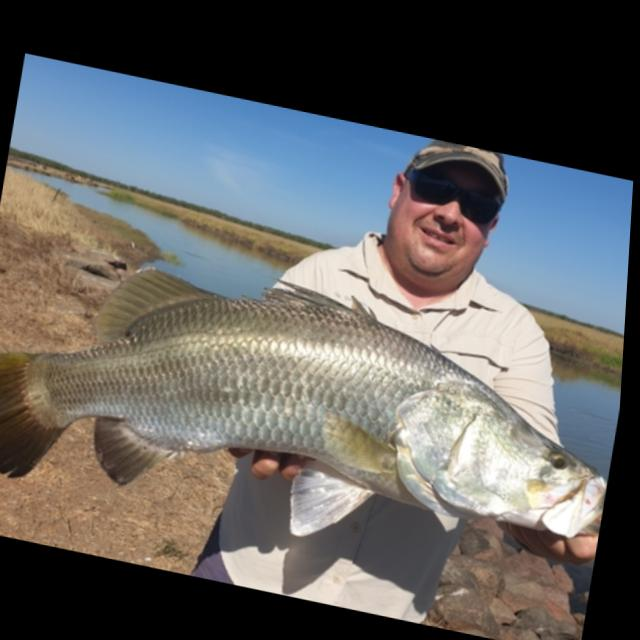Seabass: (0, 210, 628, 595)
